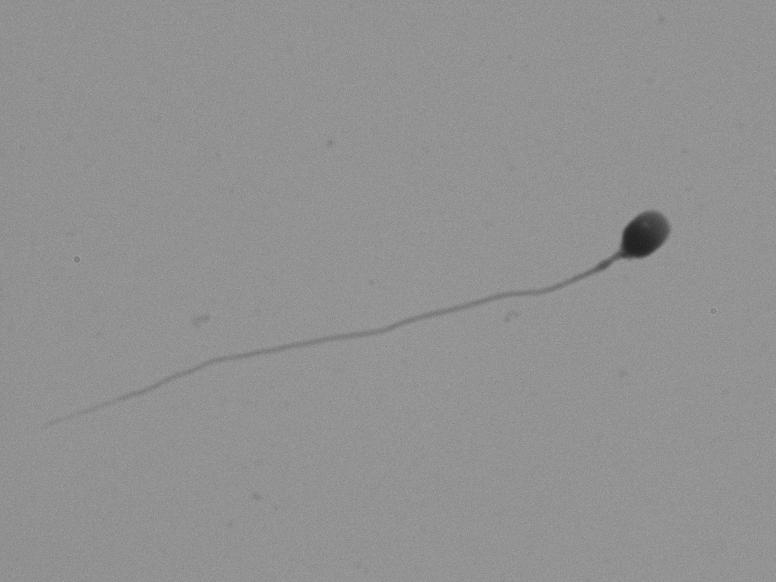Normal: (48, 185, 704, 436)
